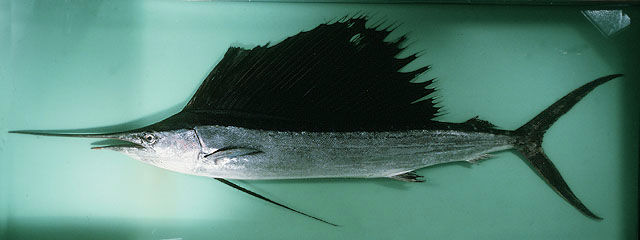fish: (6, 11, 623, 226)
